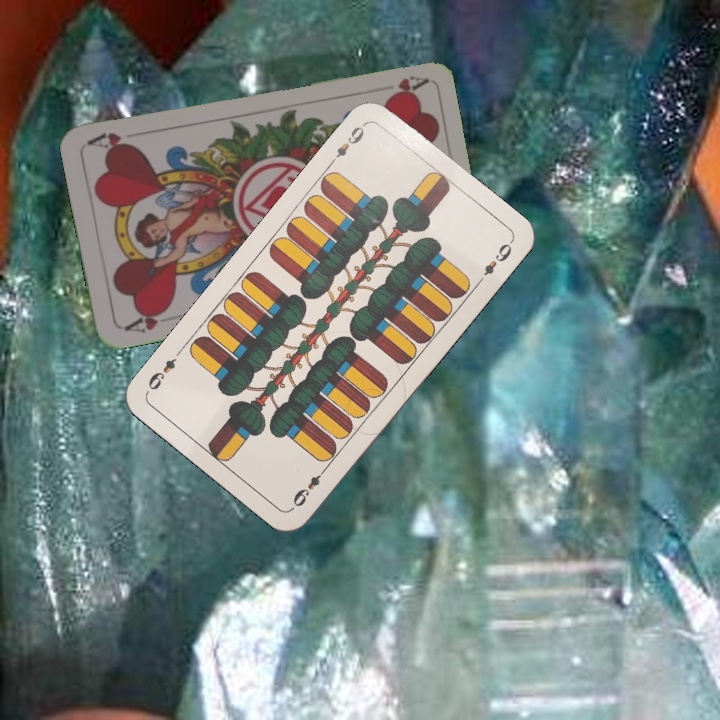E9: (325, 119, 368, 168), (288, 462, 331, 510)
HA: (120, 304, 173, 336), (383, 71, 428, 101)
